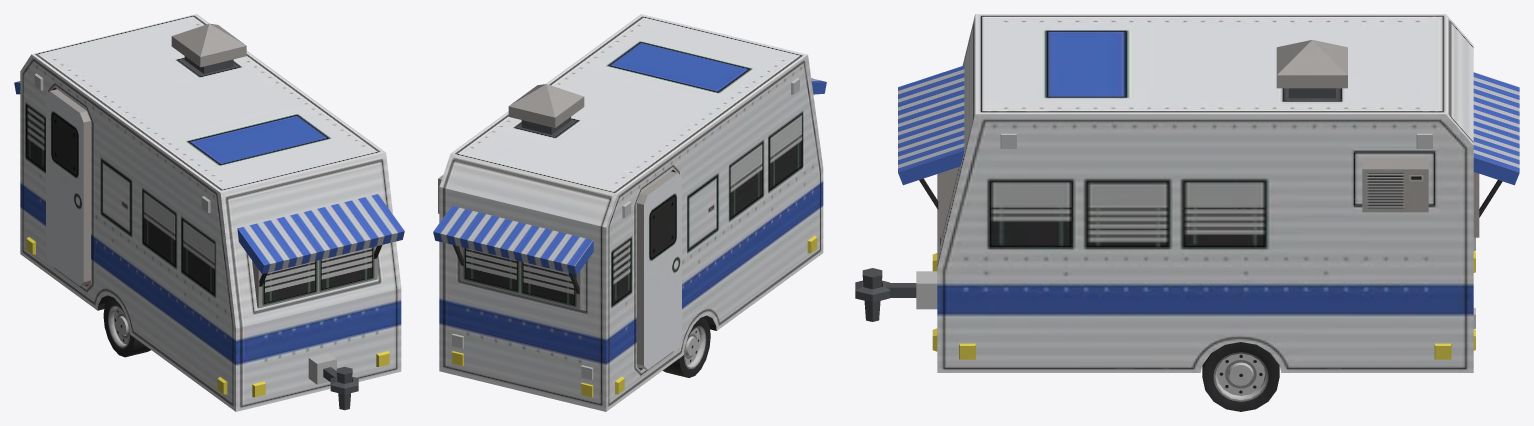
The model's file is caravan.glb.
The picture shows the model from 3 angles, left to right: view 1: azimuth 30°, elevation 25°; view 2: azimuth 150°, elevation 25°; view 3: azimuth 270°, elevation 25°; orthographic projection. The views are drawn at different scales.
Visible parts, largest first — view 1: Caravan; view 2: Caravan; view 3: Caravan.
Part boxes in pixels (left/top/right/bottom): Caravan: left=14, top=14, right=404, bottom=411; Caravan: left=433, top=14, right=826, bottom=411; Caravan: left=855, top=14, right=1519, bottom=411.
Size of the model in its own units: 115 by 163 by 280.
Materials: 1 (1 with a texture image).
